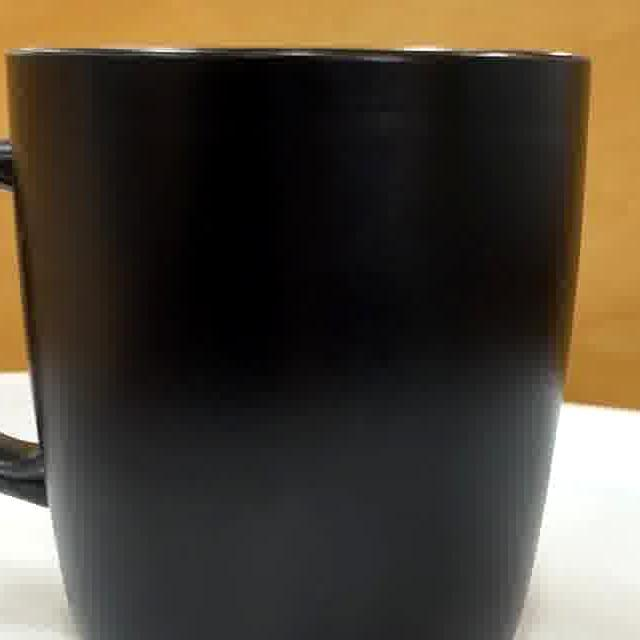cup: (0, 49, 585, 640)
